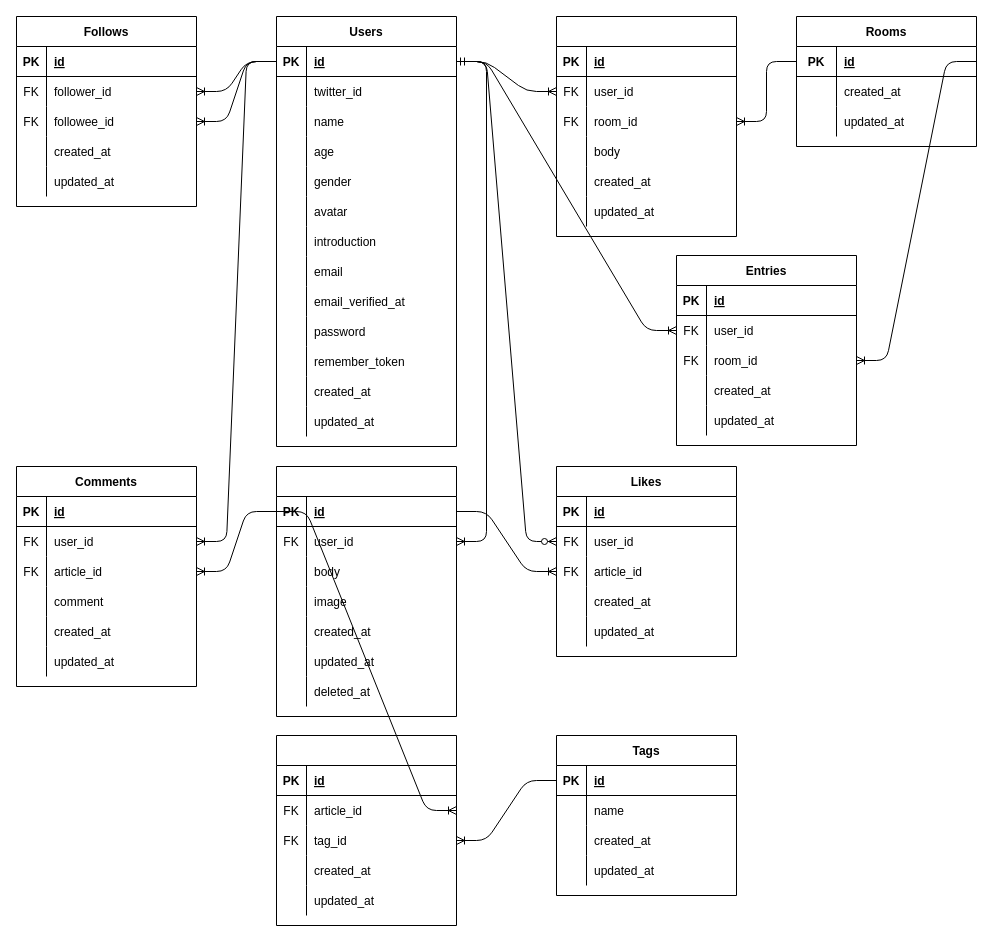
Image size: 993x942. Some labels were removed from this diagram. Here are the shapes that lost their labels. From the top down, the box of each, then its label:
(556, 16, 736, 236): Messages
(276, 466, 456, 716): Articles
(276, 734, 456, 926): Article_tags
